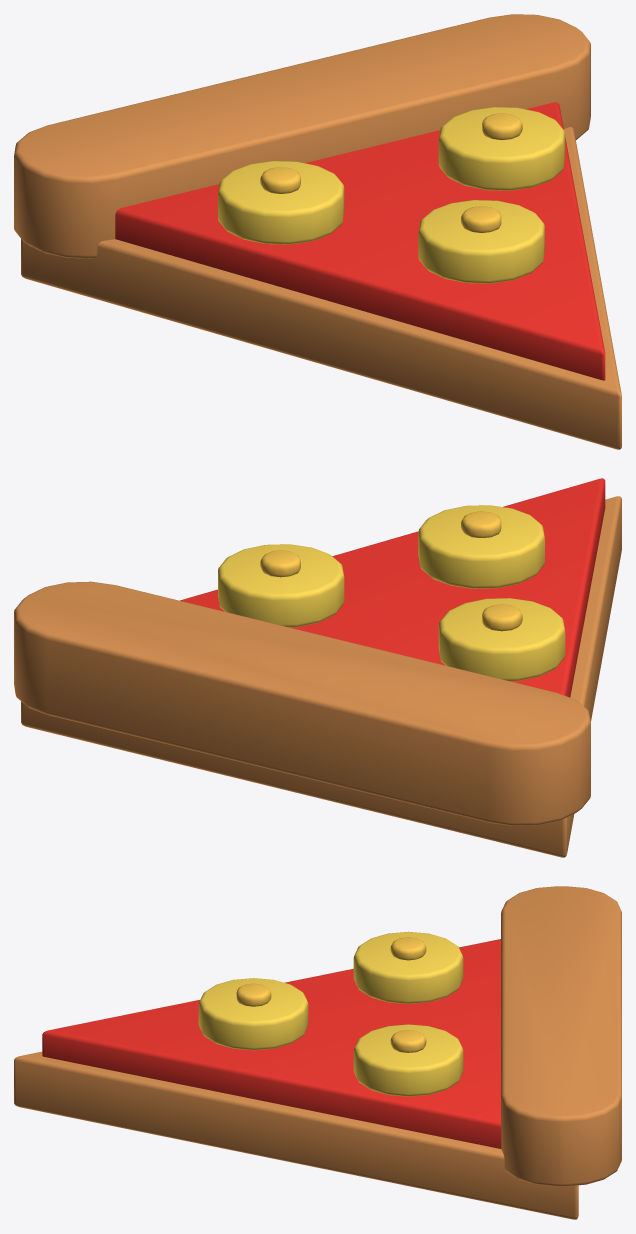
The model's file is PR3D_PizzaSlice_Shared.fbx.
3 views of the same model, one above another, from view 1: azimuth 30°, elevation 25°; view 2: azimuth 150°, elevation 25°; view 3: azimuth 270°, elevation 25° (orthographic). The views are drawn at different scales.
Visible parts, largest first — view 1: PR3D_PizzaSlice_Shared; view 2: PR3D_PizzaSlice_Shared; view 3: PR3D_PizzaSlice_Shared.
Boxes of the visible parts, x1,y1,x2,y2 form: PR3D_PizzaSlice_Shared: (14,14,621,449); PR3D_PizzaSlice_Shared: (14,478,621,857); PR3D_PizzaSlice_Shared: (14,886,621,1219).
Bounding box in the file's own units: 1.46 × 0.3445 × 1.61.
